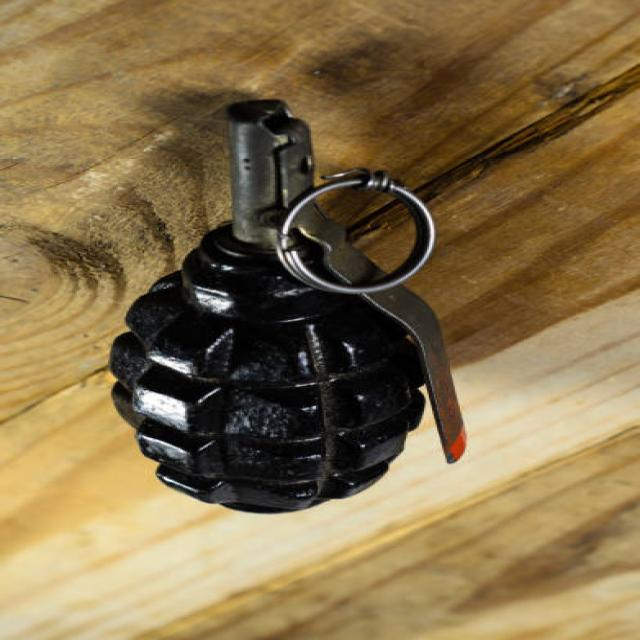grenade: (111, 97, 479, 524)
